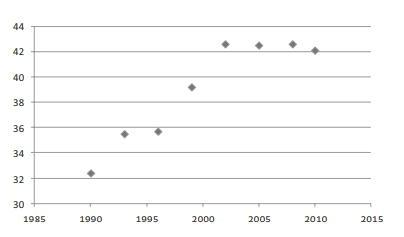axis: (29, 201, 375, 209), (29, 23, 38, 209)
point: (185, 82, 198, 93), (287, 39, 300, 49), (119, 128, 130, 139), (310, 45, 321, 56), (152, 127, 165, 136), (252, 41, 265, 50), (86, 168, 97, 178), (220, 39, 231, 49)
